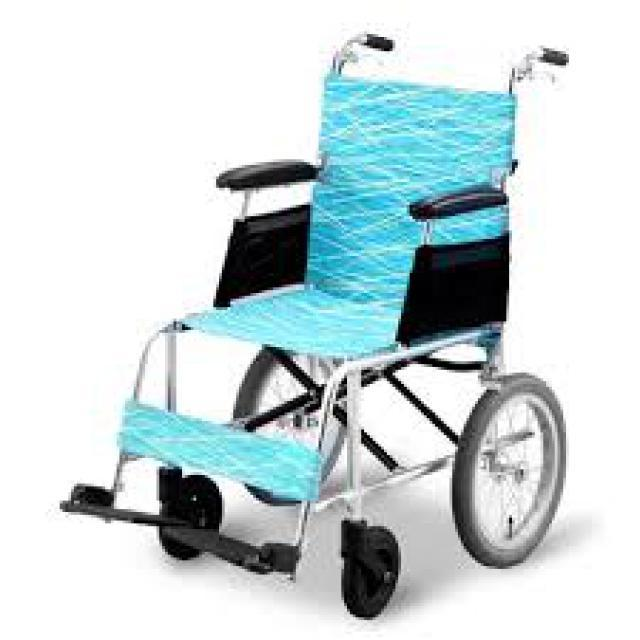wheelchair: (22, 17, 598, 637)
